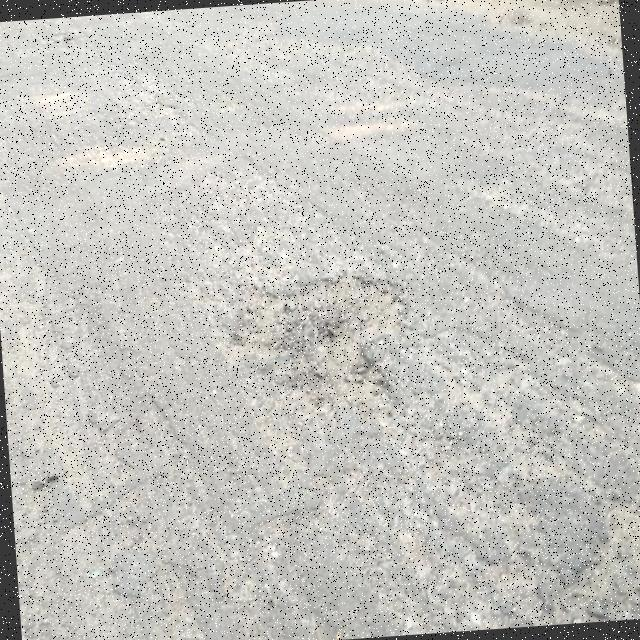Pothole: (223, 274, 407, 413)
